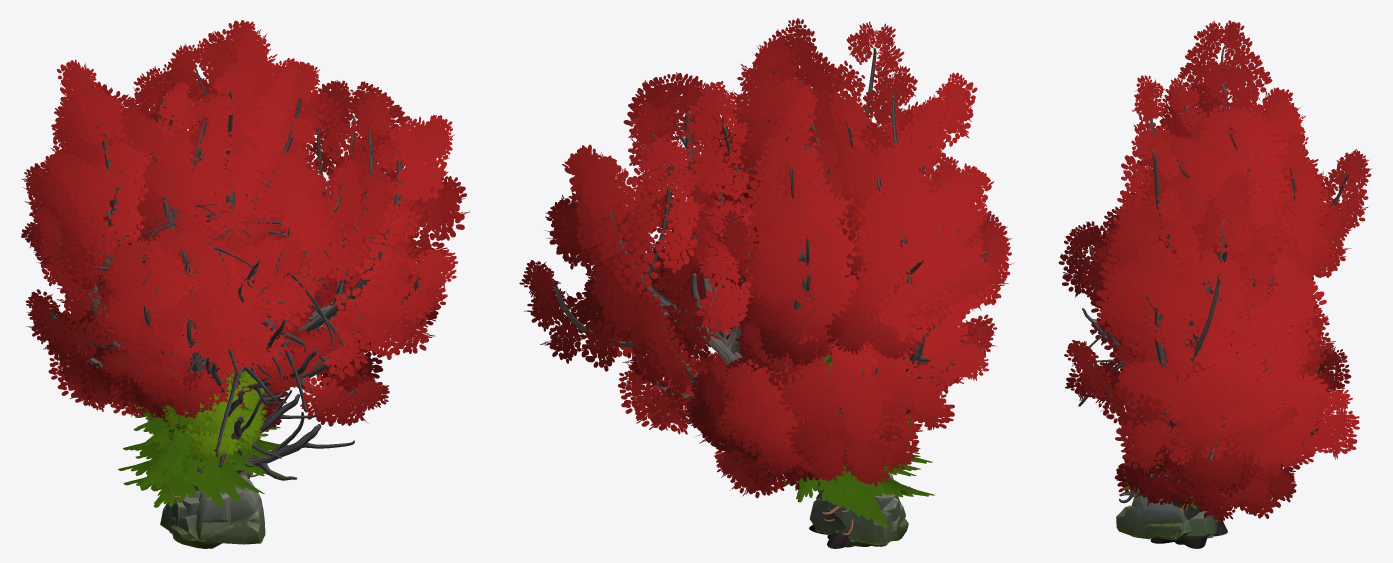
Rendered from nature.glb.
The picture shows the model from 3 angles, left to right: view 1: azimuth 30°, elevation 25°; view 2: azimuth 150°, elevation 25°; view 3: azimuth 270°, elevation 25°; orthographic projection. The views are drawn at different scales.
Visible parts, largest first — view 1: TwistedTree_2, TwistedTree_1, TwistedTree_3, TwistedTree_4, DeadTree_2, Rock_Medium_3, Pine_2, Pine_5, DeadTree_4, Pine_4, Rock_Medium_1, CommonTree_2 (+5 smaller); view 2: TwistedTree_1, TwistedTree_2, TwistedTree_4, TwistedTree_3, Pine_5, Rock_Medium_2, Pine_2; view 3: TwistedTree_1, TwistedTree_4, TwistedTree_3, TwistedTree_2, Rock_Medium_3, Rock_Medium_2.
Boxes of the visible parts, box(x1,y1,x2,y2) form: TwistedTree_2: box(21, 59, 320, 490); TwistedTree_1: box(145, 60, 469, 533); TwistedTree_3: box(48, 92, 394, 418); TwistedTree_4: box(65, 20, 367, 433); DeadTree_2: box(169, 245, 354, 480); Rock_Medium_3: box(172, 475, 265, 548); Pine_2: box(123, 424, 272, 507); Pine_5: box(118, 413, 288, 502); DeadTree_4: box(171, 207, 343, 456); Pine_4: box(123, 393, 267, 497); Rock_Medium_1: box(168, 491, 231, 541); CommonTree_2: box(161, 367, 267, 463); TwistedTree_1: box(519, 72, 887, 548); TwistedTree_2: box(721, 18, 1013, 441); TwistedTree_4: box(710, 37, 937, 489); TwistedTree_3: box(683, 99, 1011, 498); Pine_5: box(785, 356, 924, 519); Rock_Medium_2: box(809, 492, 896, 544); Pine_2: box(779, 448, 934, 527); TwistedTree_1: box(1064, 171, 1359, 548); TwistedTree_4: box(1080, 84, 1372, 380); TwistedTree_3: box(1058, 163, 1351, 513); TwistedTree_2: box(1100, 20, 1321, 374); Rock_Medium_3: box(1116, 488, 1186, 539); Rock_Medium_2: box(1186, 510, 1216, 537).
Size of the model in its own units: 17.96 by 19.08 by 12.13.
12 materials, 12 textured.
